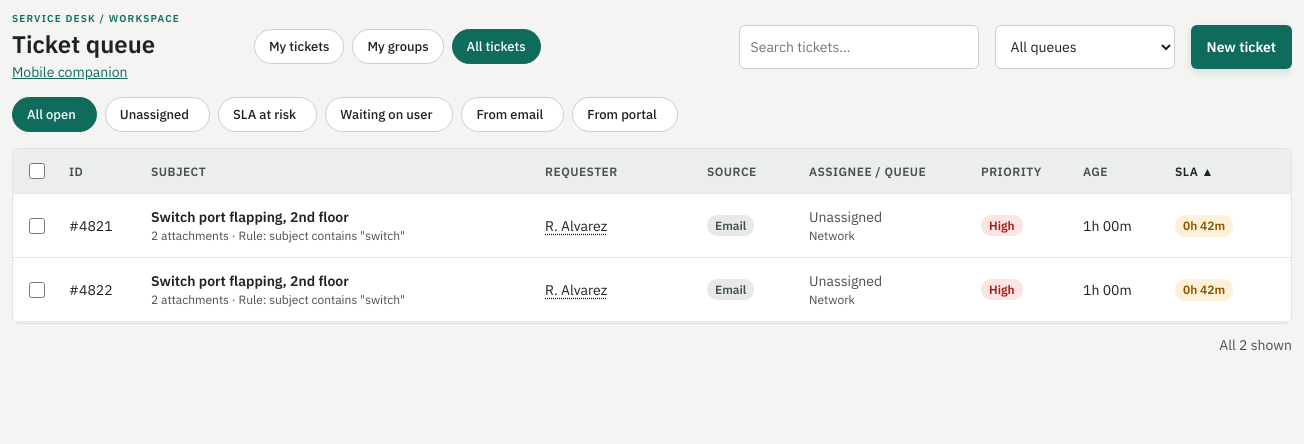
Test case: bulk editing alone never grants Delete
Click the checkbox named "Select #4821".
click(37, 226)  # box [29,218,45,234]
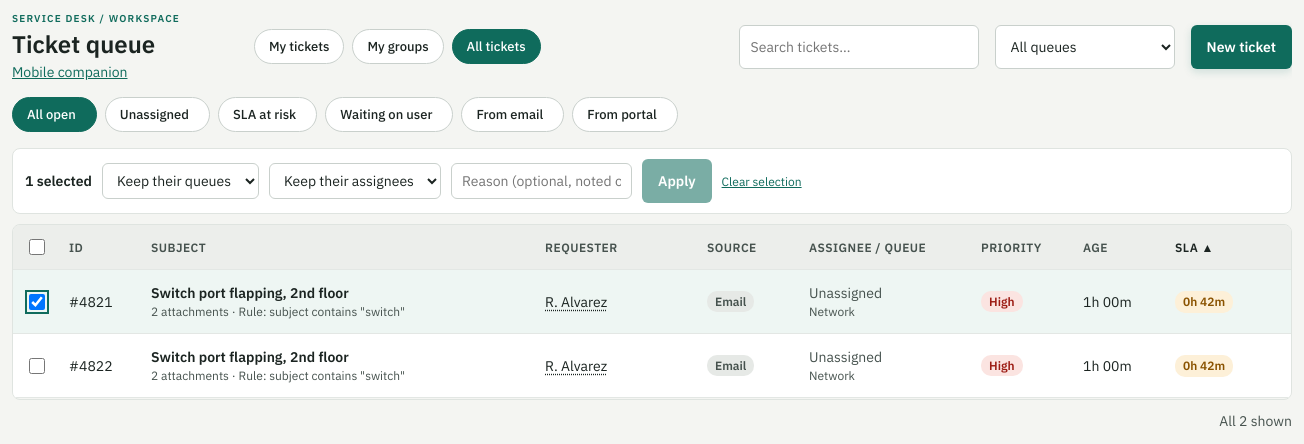
Expected: the dropdown named "Move to queue" is shown, [102,163,259,199]
